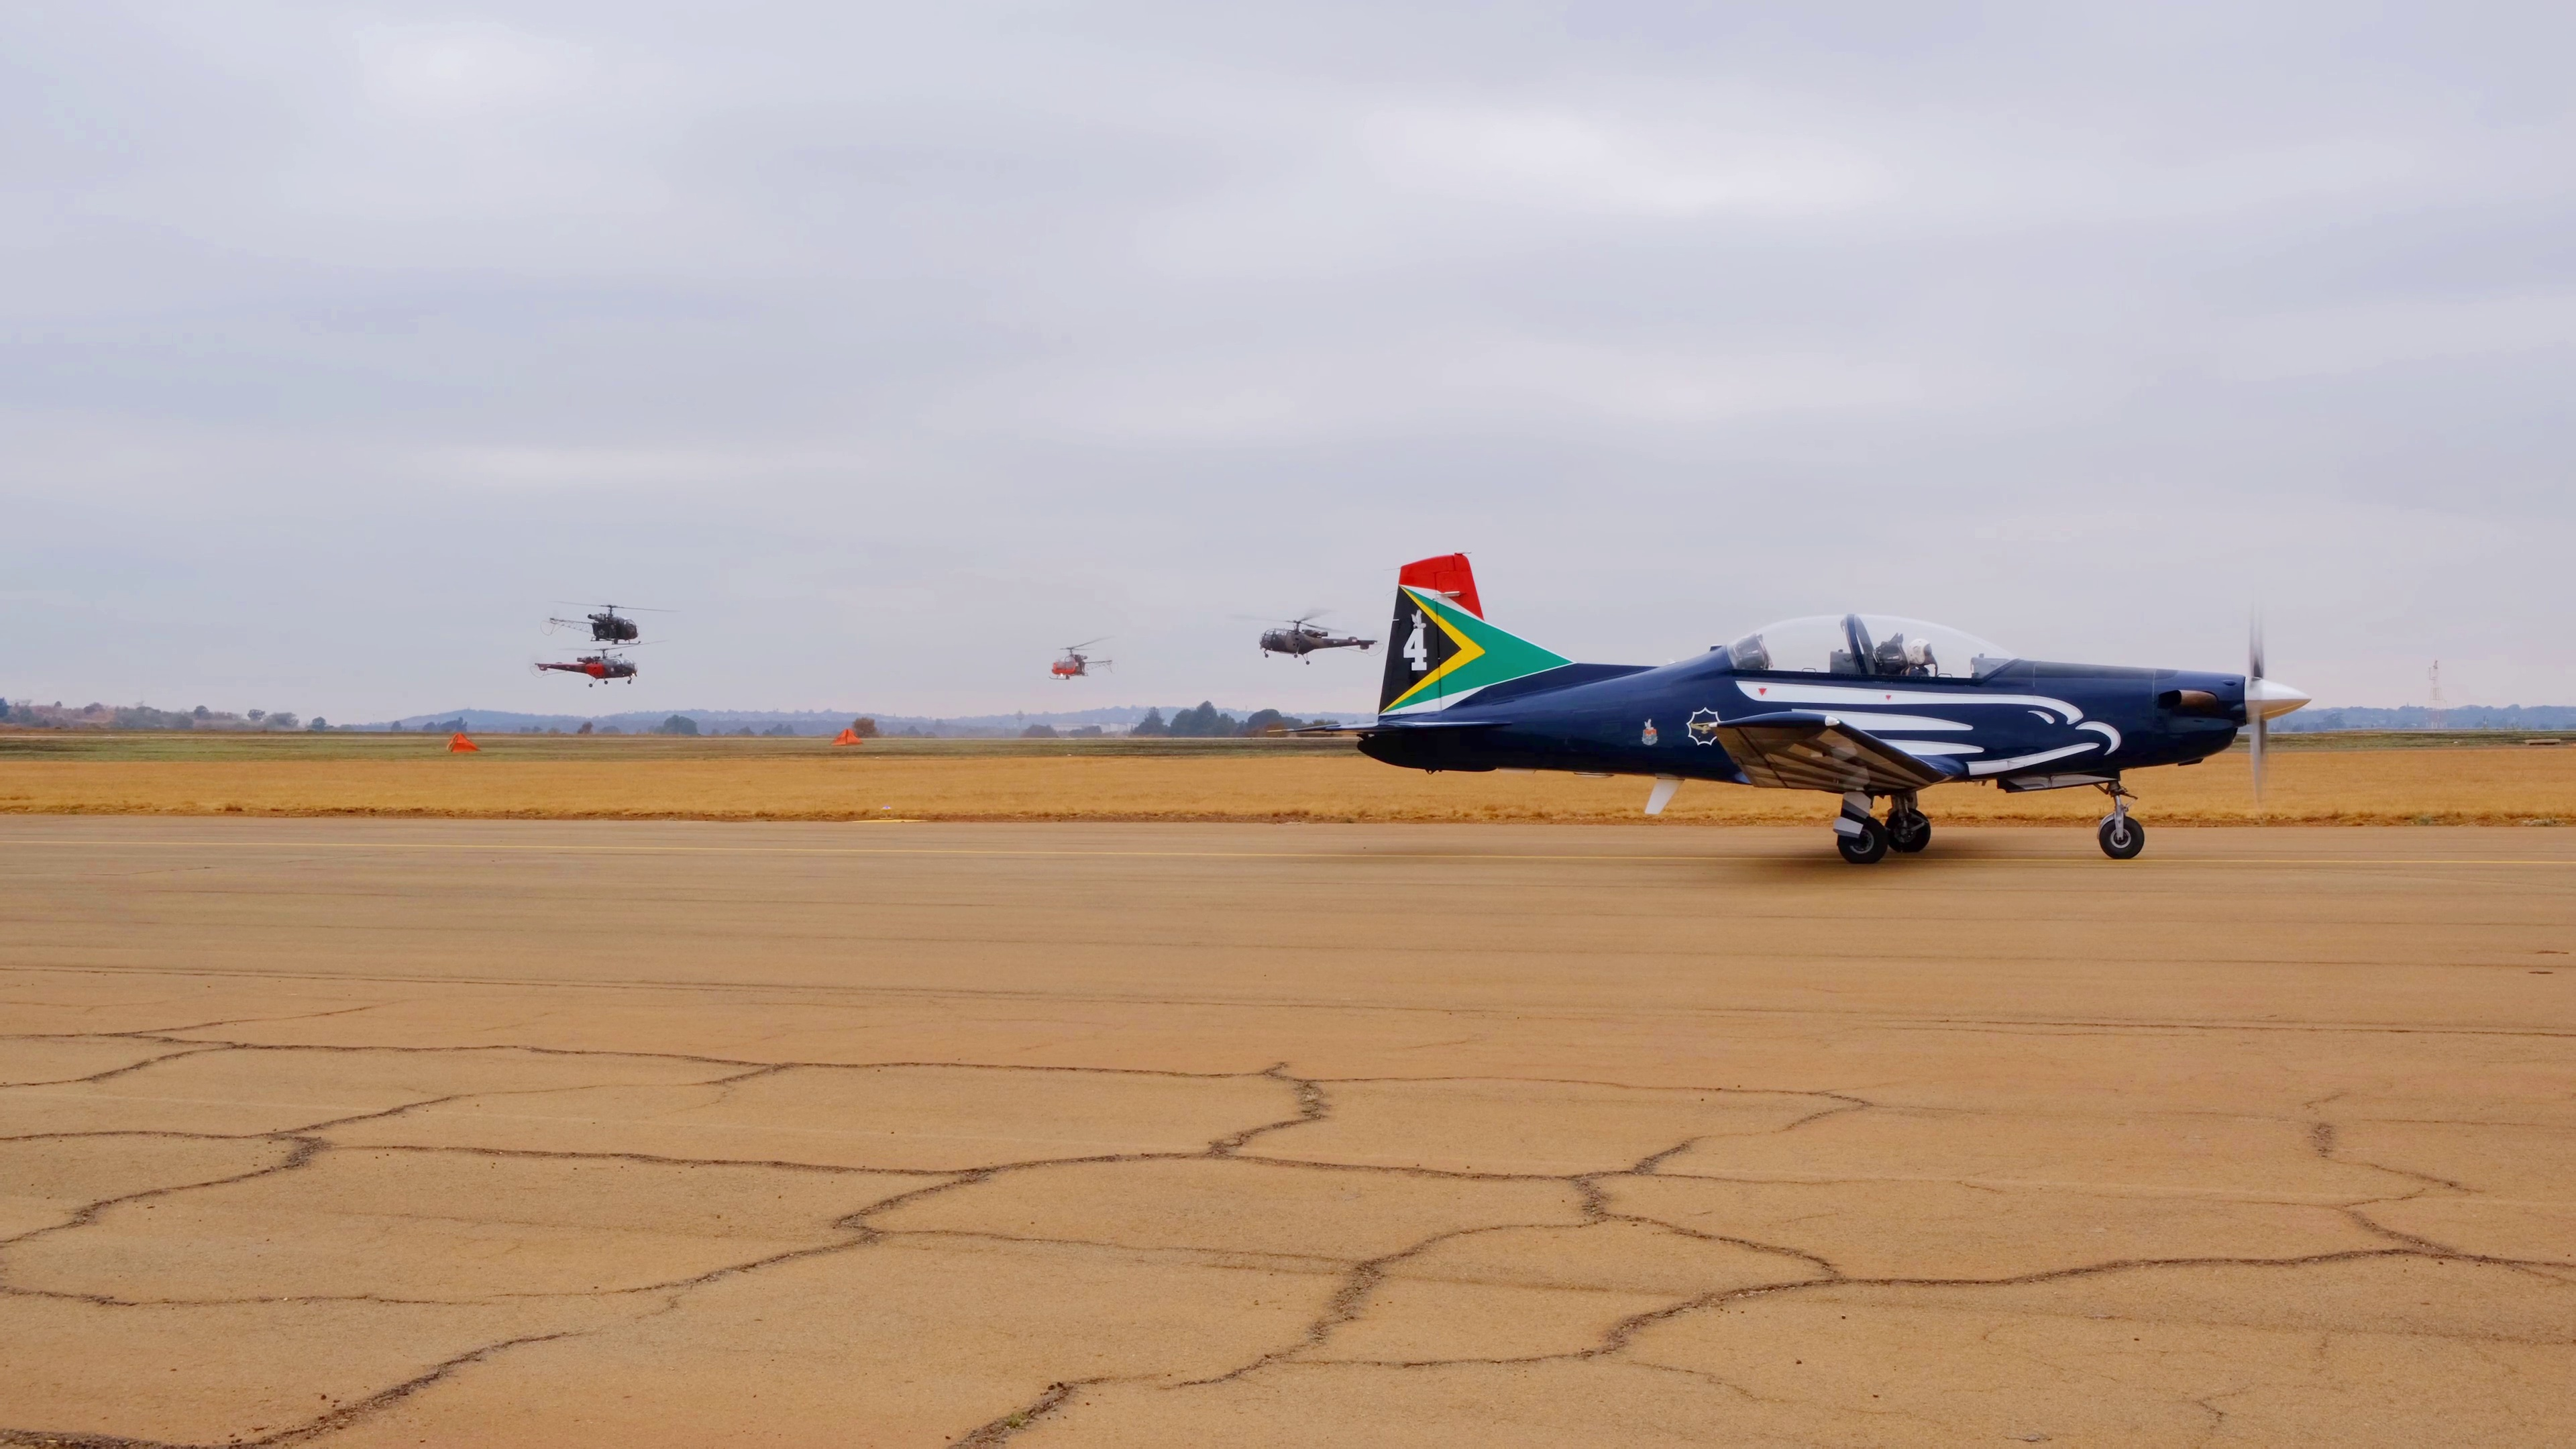heli: (1258, 612, 1378, 663), (545, 600, 674, 646), (536, 646, 655, 686), (1053, 630, 1115, 679)
plane: (1357, 550, 2311, 865)
